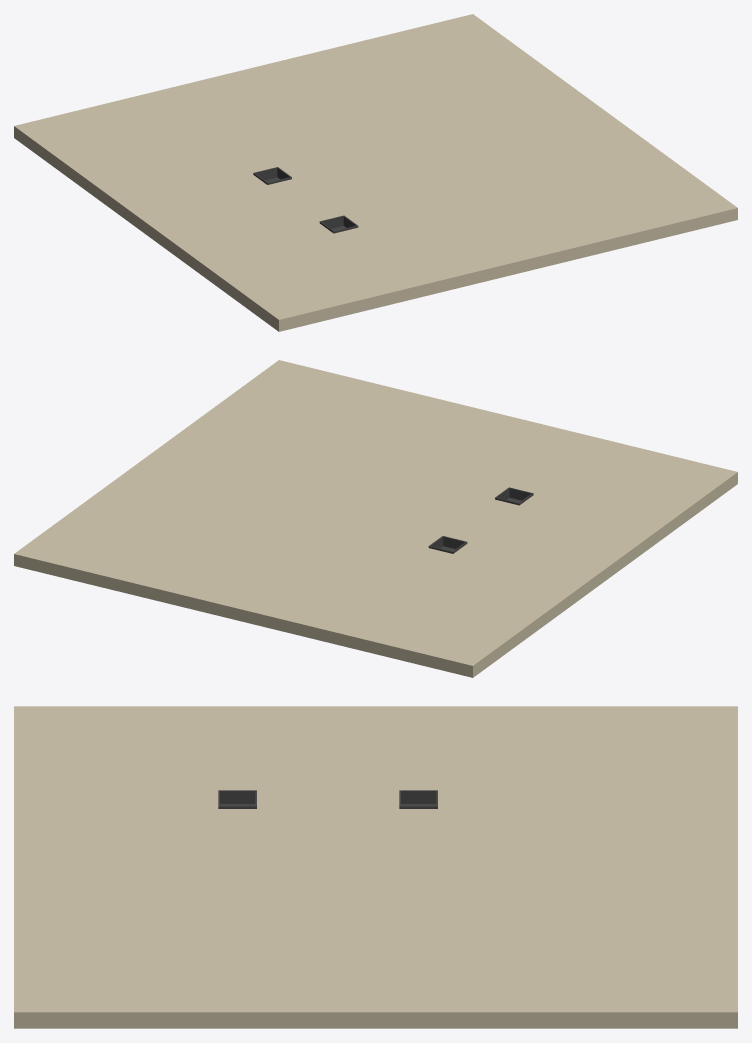
3 renders of one model, top to bottom at view 1: azimuth 30°, elevation 25°; view 2: azimuth 150°, elevation 25°; view 3: azimuth 270°, elevation 25°, orthographic. The views are drawn at different scales.
Parts seen in each view (by area): view 1: Box001; view 2: Box001; view 3: Box001.
Part boxes in pixels (left/top/right/bottom): Box001: left=14, top=14, right=737, bottom=331; Box001: left=14, top=360, right=737, bottom=677; Box001: left=14, top=706, right=737, bottom=1028.
Bounding box in the file's own units: 4 × 0.115 × 4.
